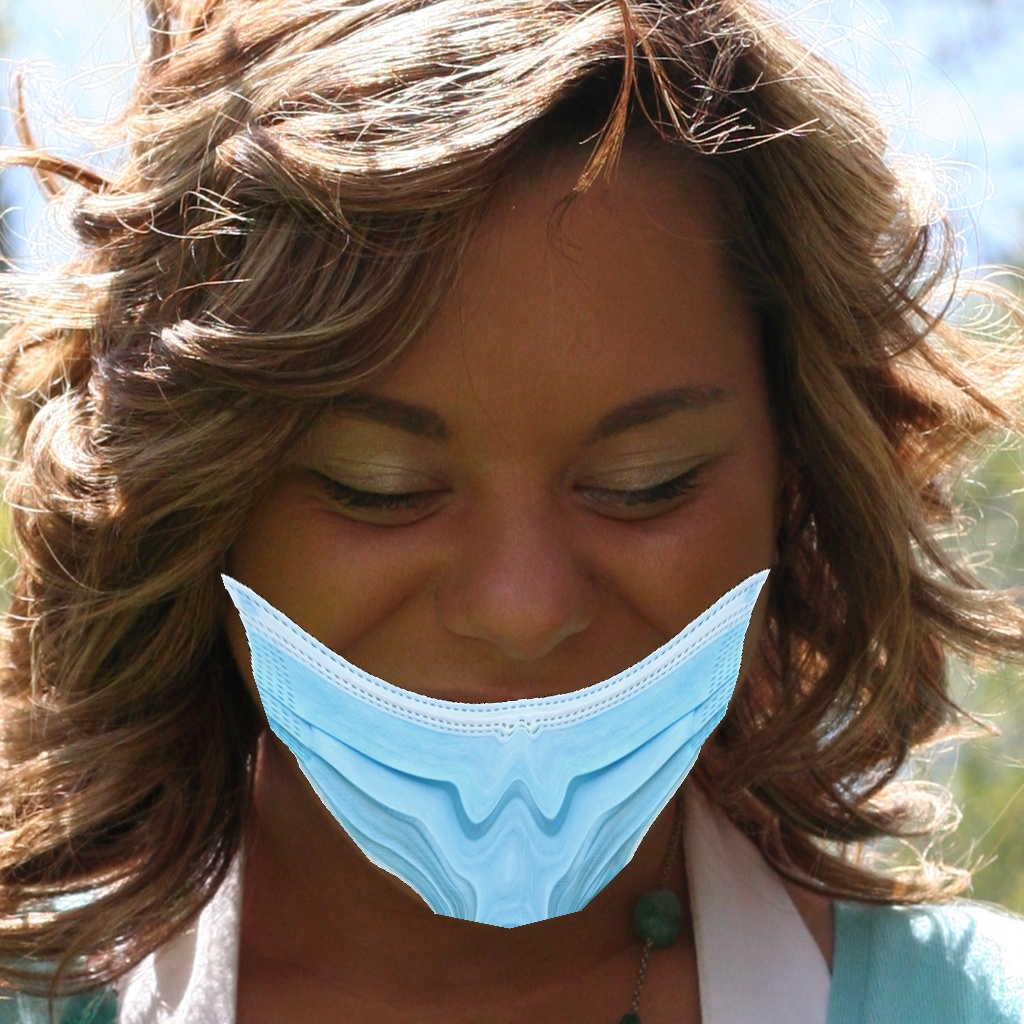mask_weared_incorrect: (261, 375, 753, 929)
